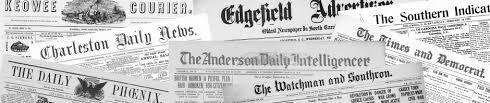Printing industry: (4, 2, 490, 103)
